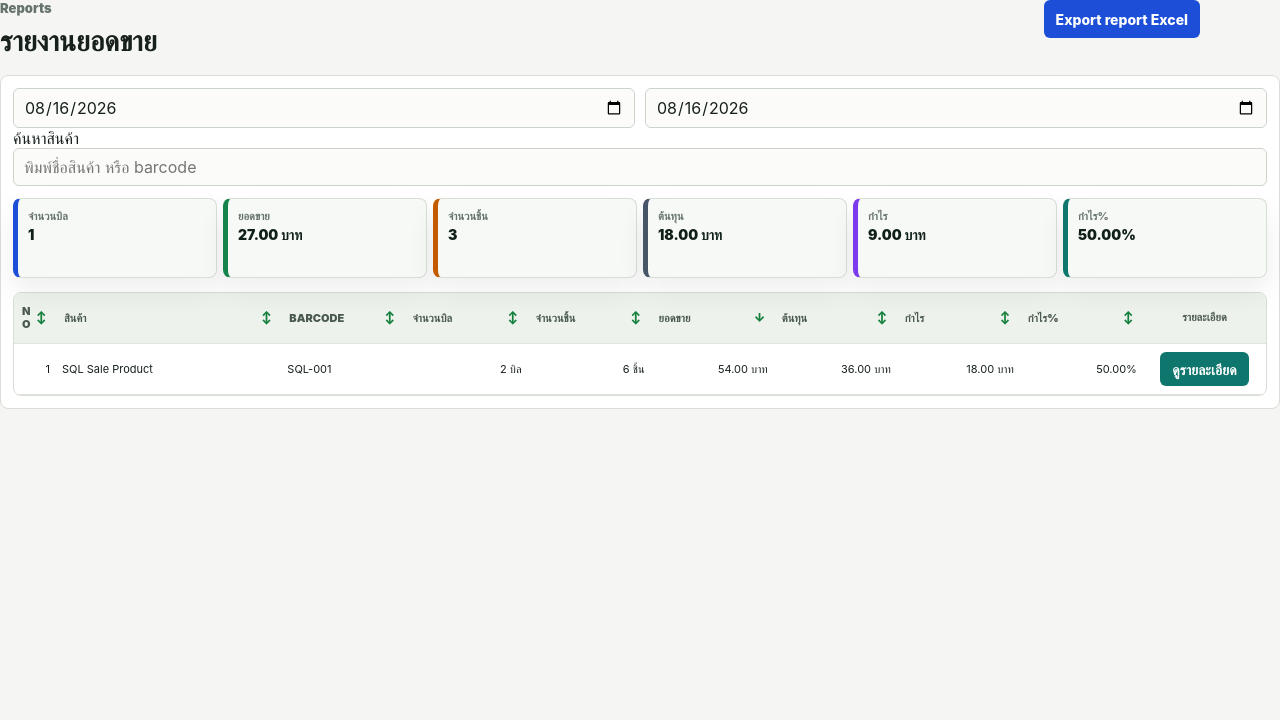
Test: backend connected report pages › opens the bill detail modal with each bill and Asia/Bangkok datetime when clicking ดูรายละเอียด
The width and height of the screenshot is (1280, 720).
Click the button "ดูรายละเอียด" at (1204, 369), box x1=1160 y1=352 x2=1248 y2=386
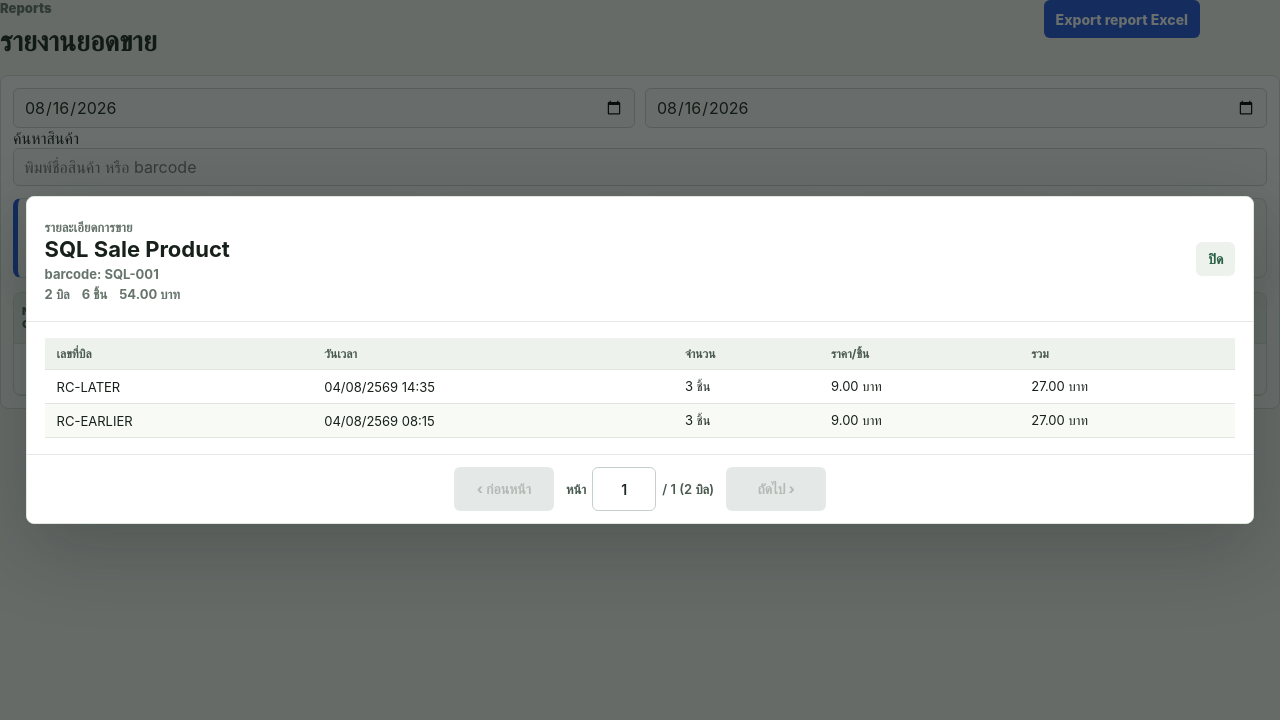
Expected: the dialog "SQL Sale Product" is shown, x1=26 y1=196 x2=1254 y2=524
Expected: the text "RC-LATER" is shown, x1=45 y1=370 x2=312 y2=404
Expected: the text "RC-EARLIER" is shown, x1=45 y1=404 x2=312 y2=438
